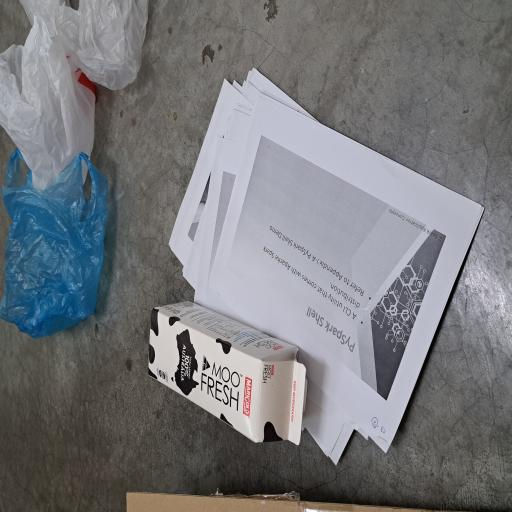drink carton: (49, 194, 159, 411)
paper: (33, 227, 333, 512)
plastic bag: (130, 0, 272, 142), (242, 0, 384, 130), (315, 102, 384, 200)
